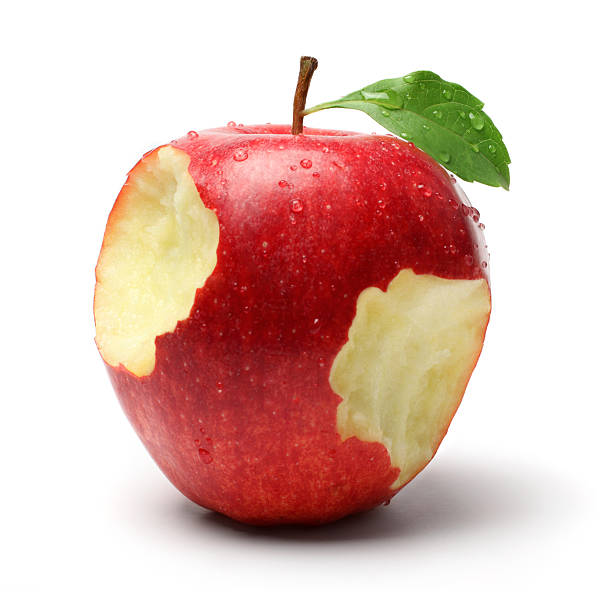apple/: (82, 52, 563, 575)
